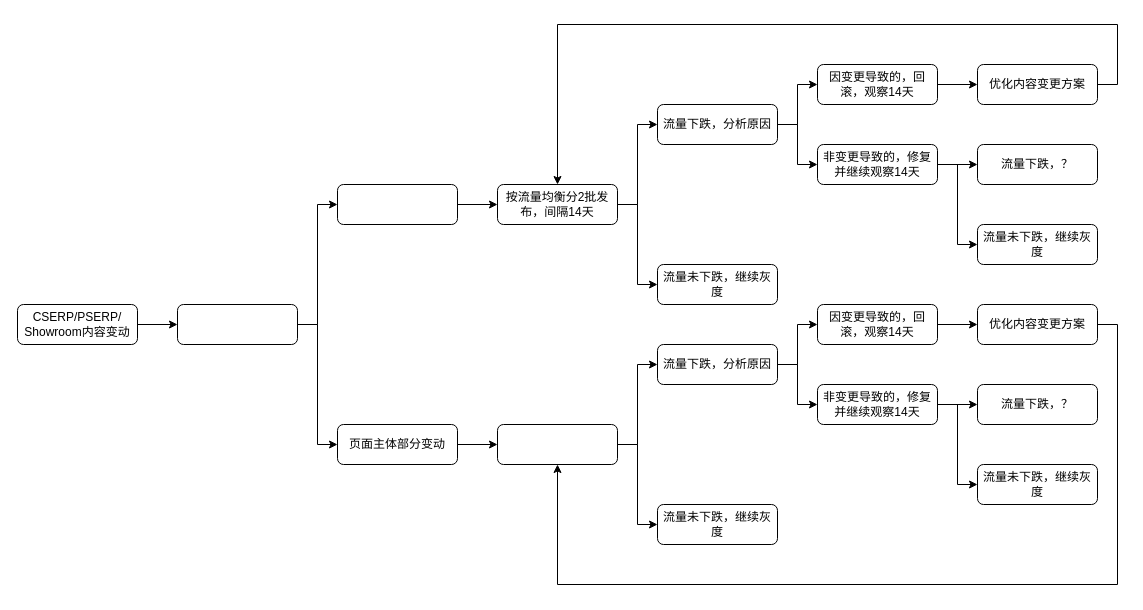
The diagram is 1143 pixels wide and 610 high, and some of its shapes have lost their labels. The shapes that lost their labels are listed below. From the top down, each one's centre as x and y in pixels, then its label:
At [397,204]: "页面补充内容变动".
At [237,324]: "提工单到Arise评估，附PRD及影响页面".
At [557,444]: "按流量均衡分3批发布，间隔14天".
